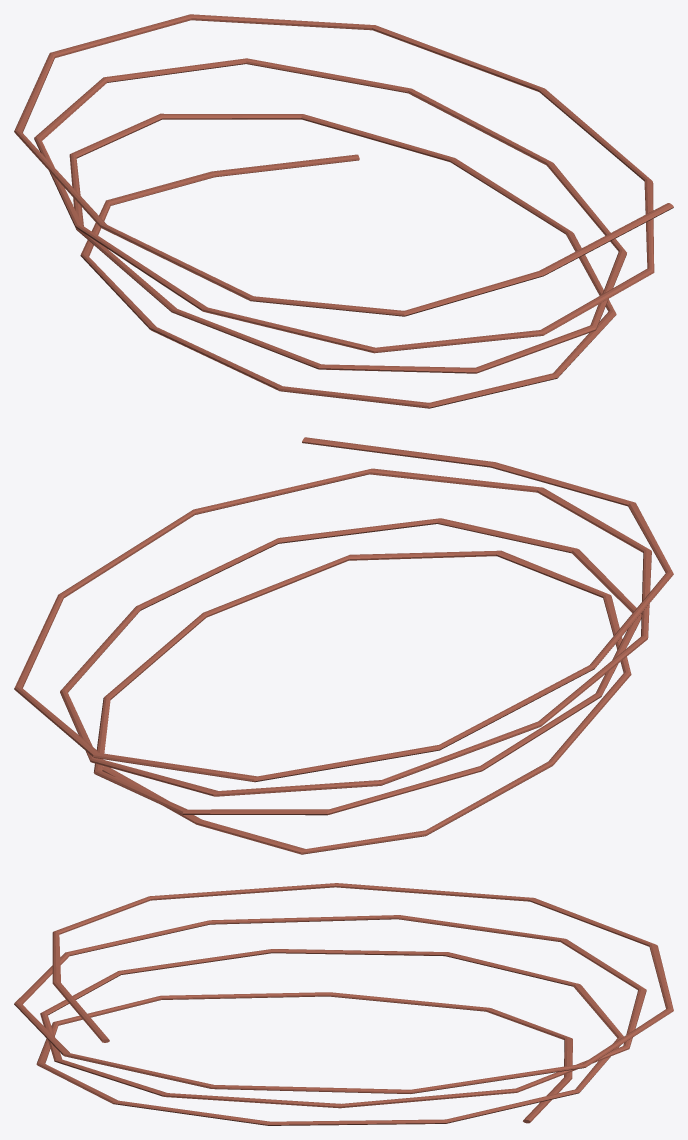
The model's file is wire_1.fbx.
3 renders of one model, top to bottom at view 1: azimuth 30°, elevation 25°; view 2: azimuth 150°, elevation 25°; view 3: azimuth 270°, elevation 25°, orthographic. The views are drawn at different scales.
Parts seen in each view (by area): view 1: wire_1; view 2: wire_1; view 3: wire_1.
Boxes of the visible parts, bbox=[...] form: wire_1: bbox=[14, 14, 673, 408]; wire_1: bbox=[14, 437, 673, 854]; wire_1: bbox=[14, 883, 673, 1125].
Bounding box in the file's own units: 7.71 × 2.09 × 10.92.
Materials: 1 (1 with a texture image).
